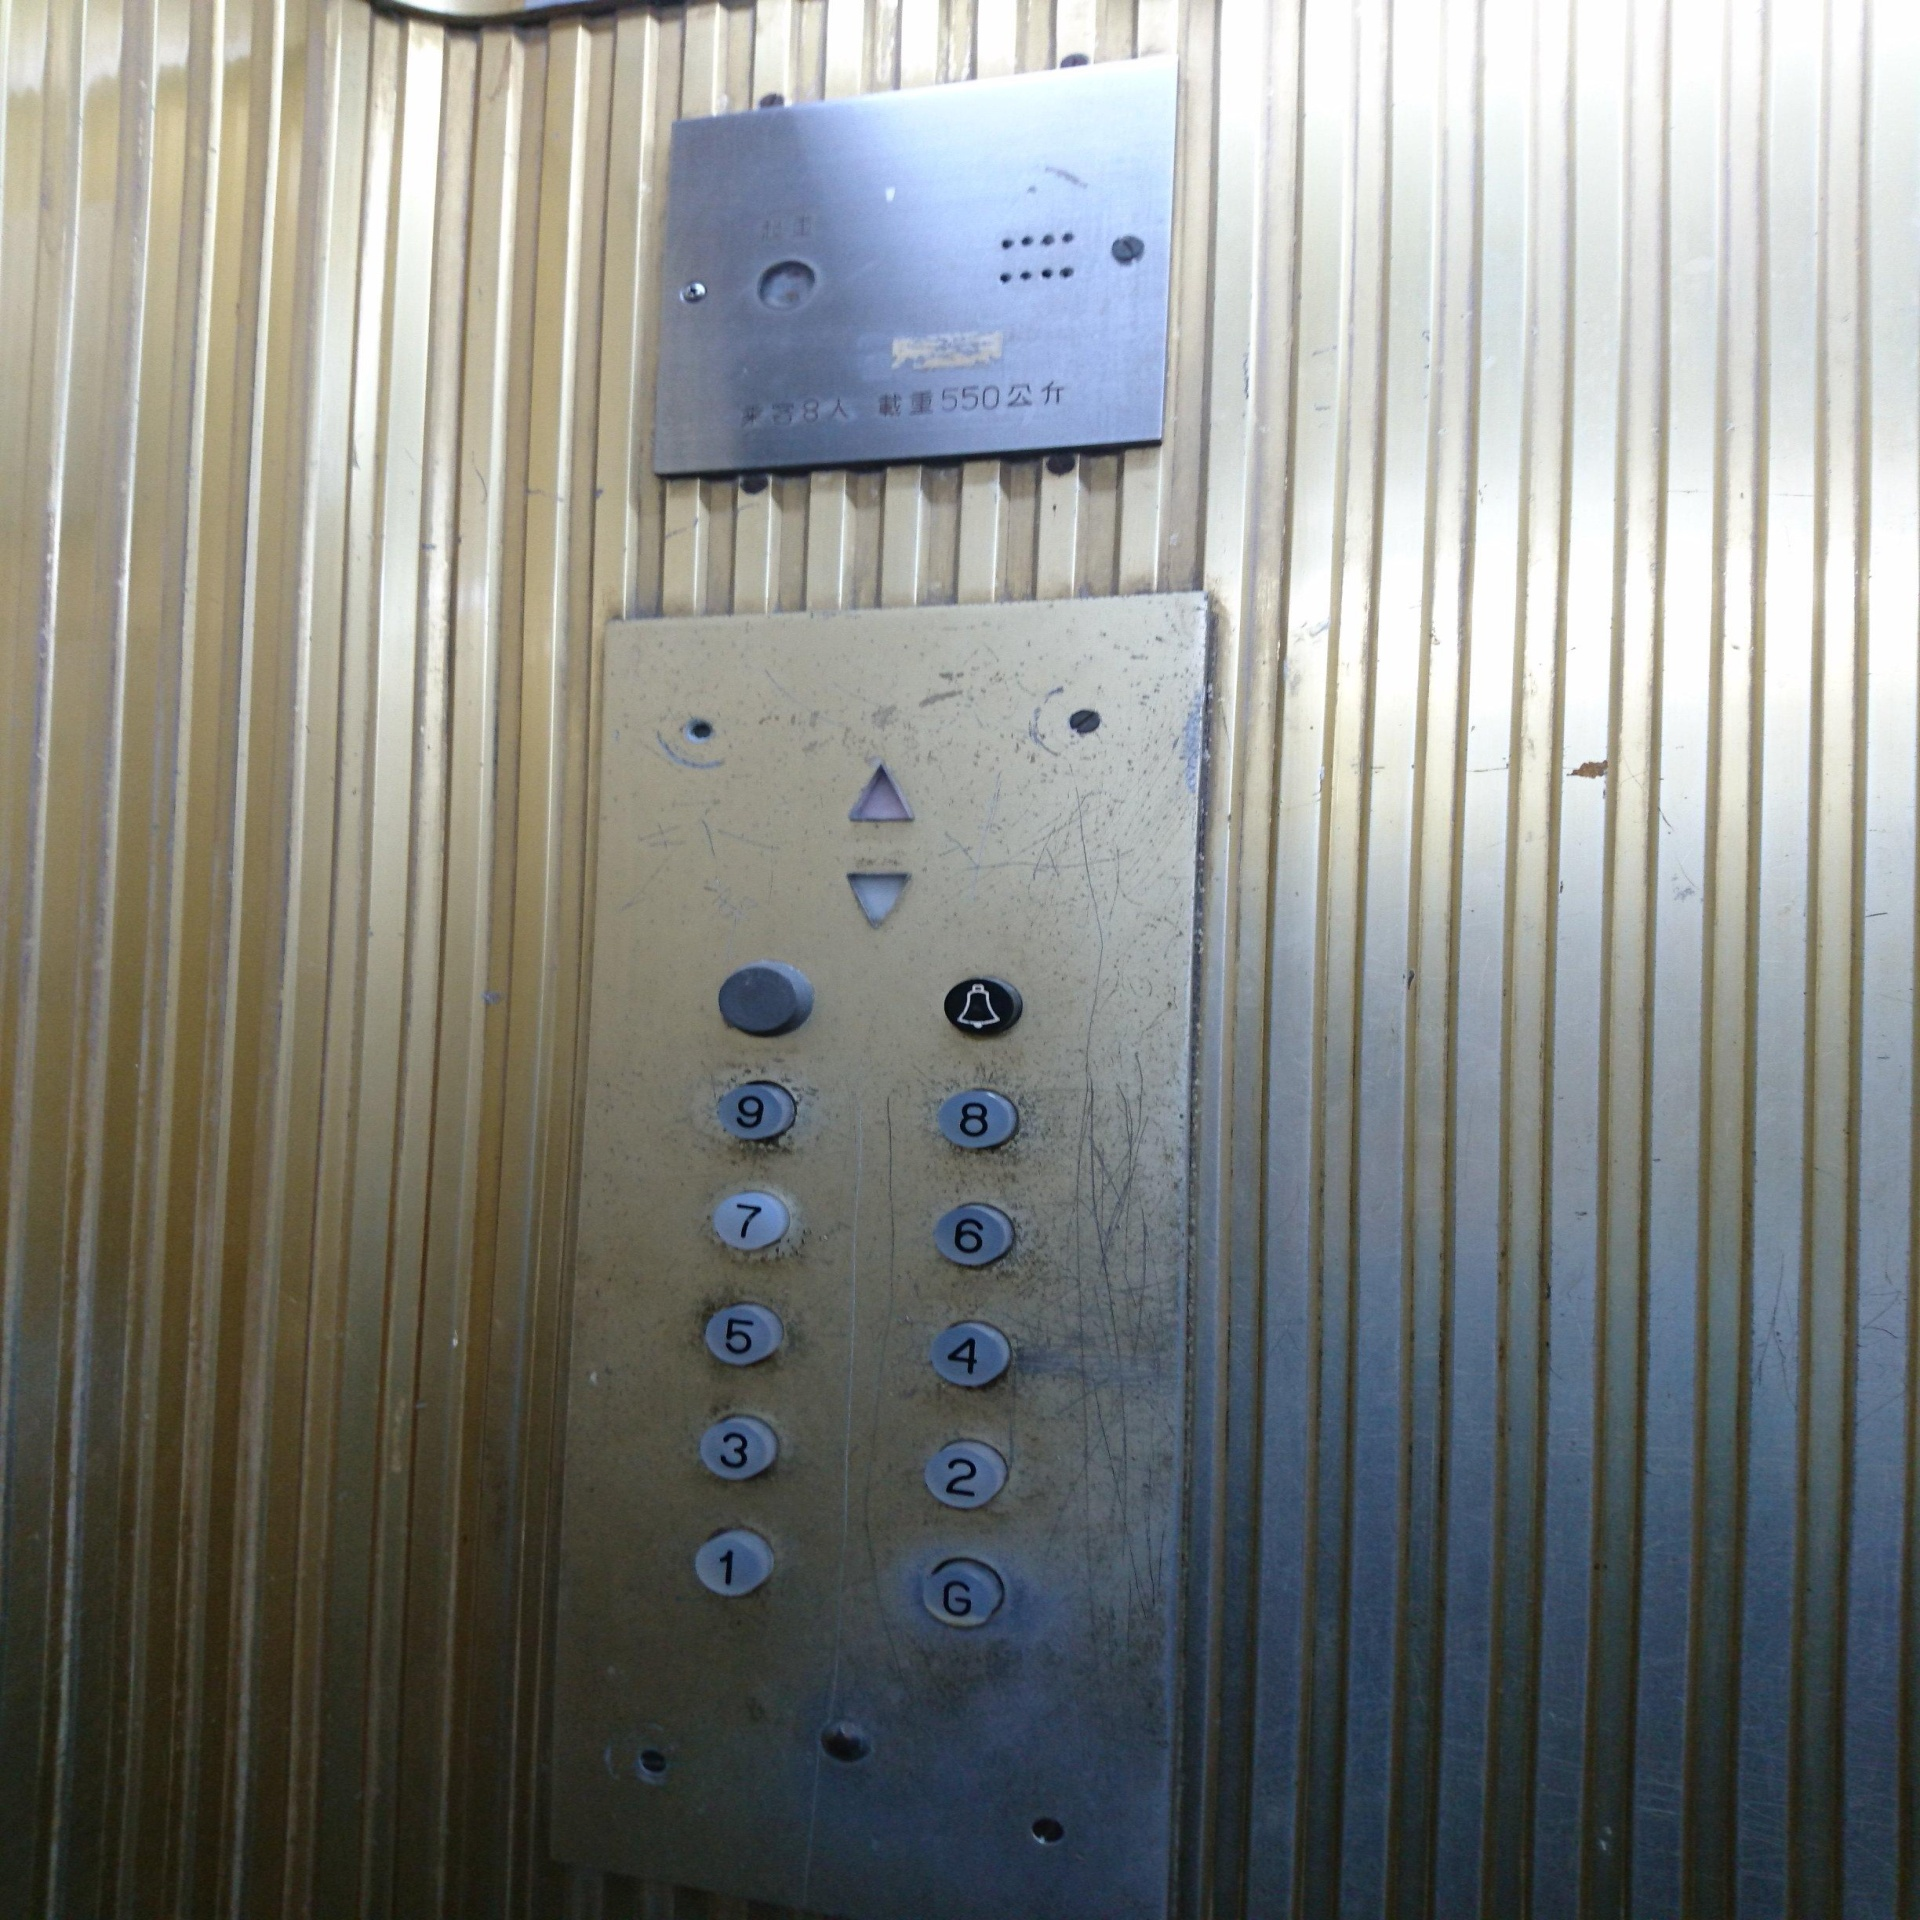1: (691, 1524, 777, 1604)
2: (921, 1440, 1007, 1510)
3: (695, 1412, 781, 1482)
4: (927, 1317, 1013, 1389)
5: (702, 1299, 789, 1368)
6: (928, 1199, 1016, 1268)
7: (709, 1187, 795, 1255)
8: (934, 1085, 1022, 1153)
9: (716, 1074, 802, 1150)
G: (920, 1554, 1007, 1632)
alarm: (935, 967, 1030, 1046)
empty: (714, 956, 821, 1043)
